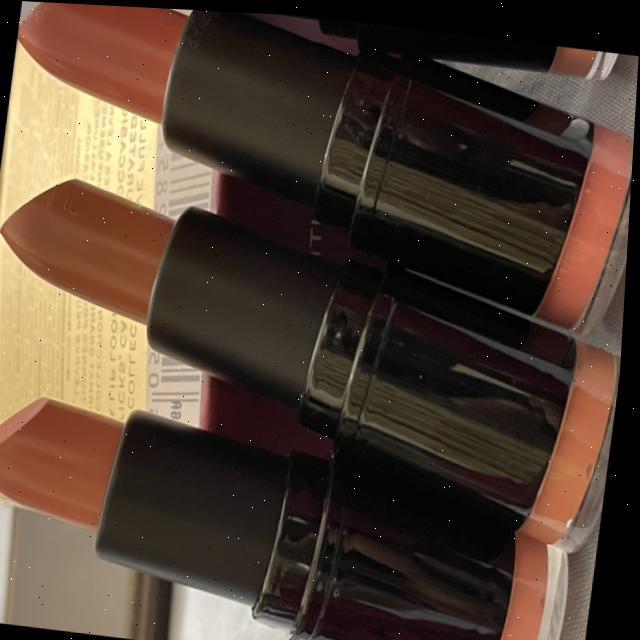lip stick: (0, 149, 631, 522), (0, 0, 624, 315), (0, 364, 592, 640)
